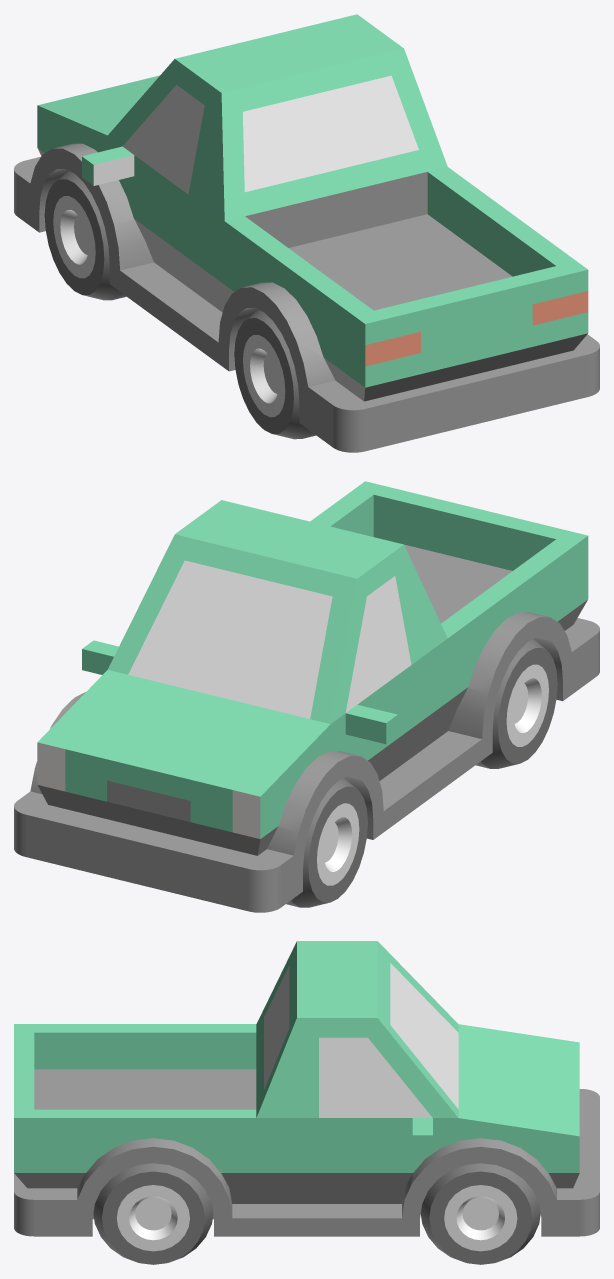
Rendered from truck.glb.
The picture shows the model from 3 angles, top to bottom: view 1: azimuth 30°, elevation 25°; view 2: azimuth 150°, elevation 25°; view 3: azimuth 270°, elevation 25°; orthographic projection. The views are drawn at different scales.
Parts seen in each view (by area): view 1: body, wheel_backLeft, wheel_frontLeft; view 2: body, wheel_backLeft, wheel_frontLeft; view 3: body, wheel_backRight, wheel_frontRight.
Boxes of the visible parts, left/top/right/bottom form: body: left=14, top=14, right=599, bottom=452; wheel_backLeft: left=234, top=309, right=315, bottom=439; wheel_frontLeft: left=44, top=170, right=126, bottom=300; body: left=14, top=481, right=599, bottom=912; wheel_backLeft: left=476, top=639, right=557, bottom=768; wheel_frontLeft: left=286, top=778, right=367, bottom=907; body: left=14, top=941, right=599, bottom=1236; wheel_backRight: left=93, top=1163, right=213, bottom=1264; wheel_frontRight: left=420, top=1163, right=540, bottom=1264.
Size of the model in its own units: 1.5 by 1.3 by 2.9.
